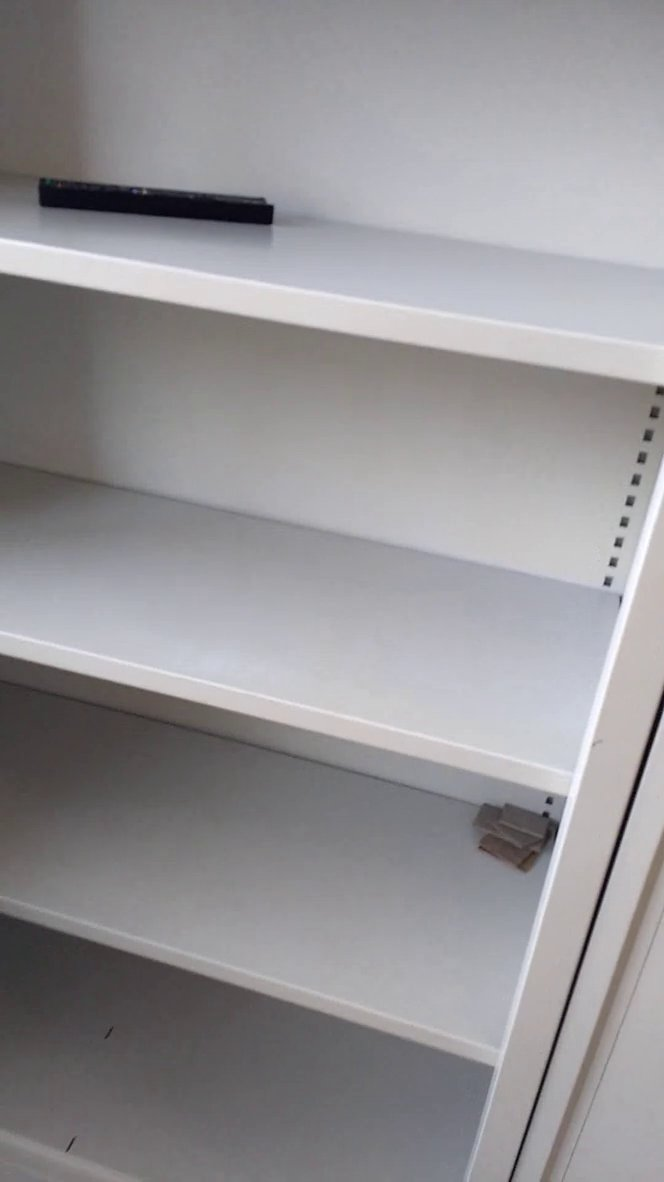remote: (29, 159, 284, 234)
